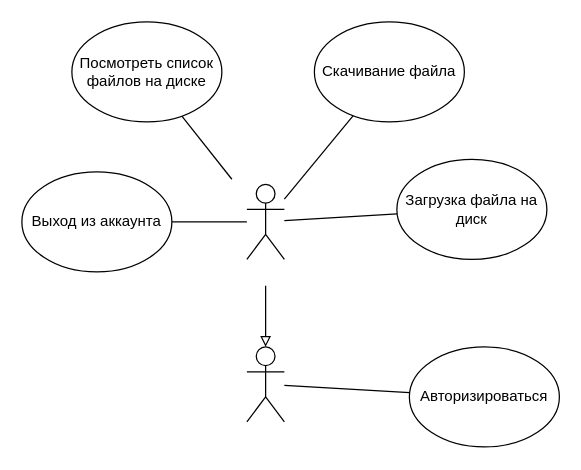
The diagram is 581 pixels wide and 470 high, and some of its shapes have lost their labels. Here are the shapes that lost their labels. From the top down, the box of each, then its label:
(246, 183, 284, 259): Авторизированный пользователь
(246, 346, 284, 422): Неавторизированный пользователь
